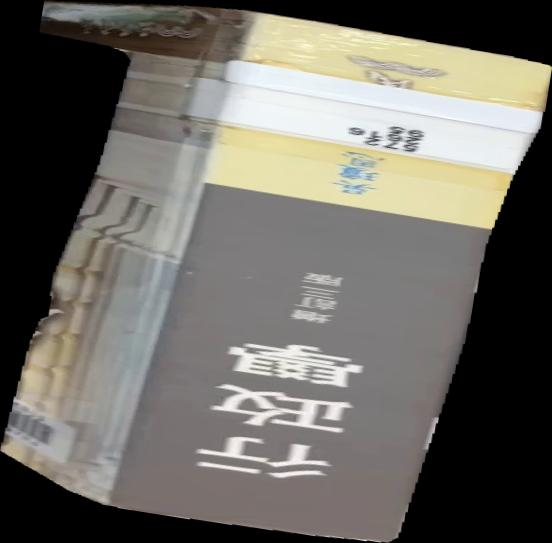reverse: (1, 1, 552, 543)
